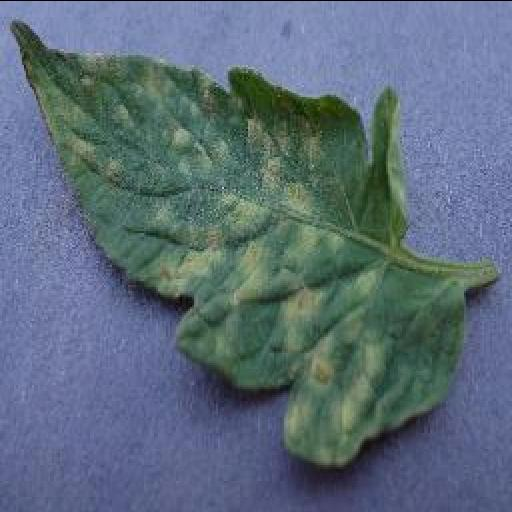disease_tomato: (8, 21, 468, 461)
